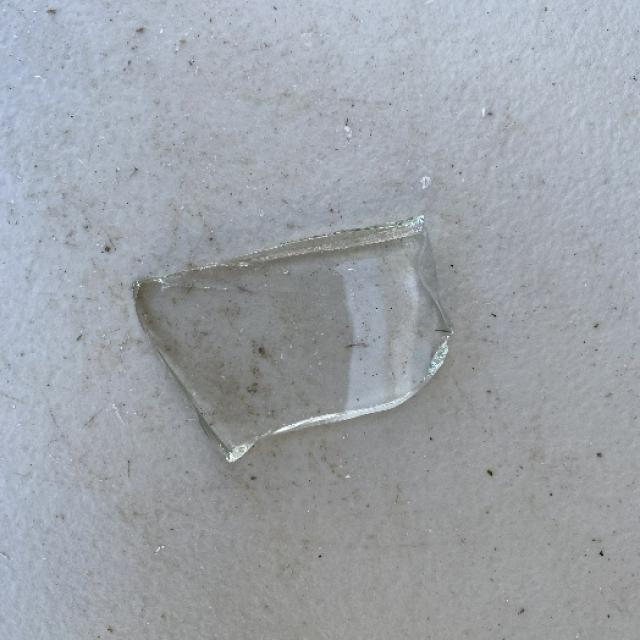inorganic: (136, 222, 504, 454)
kaca: (143, 213, 459, 447)
